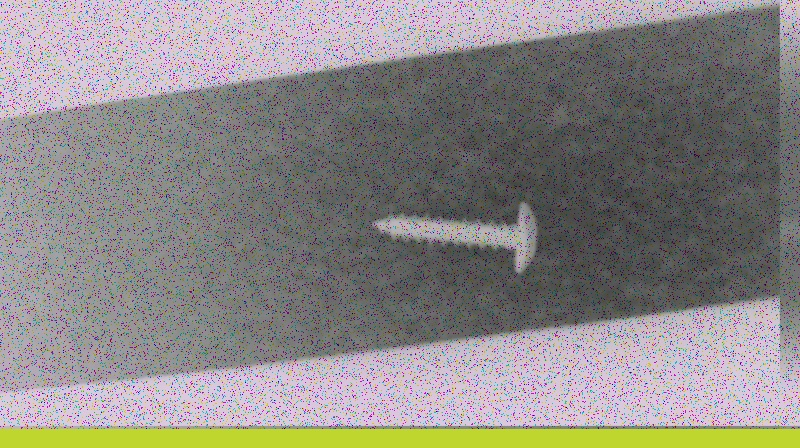S003: (365, 199, 542, 273)
